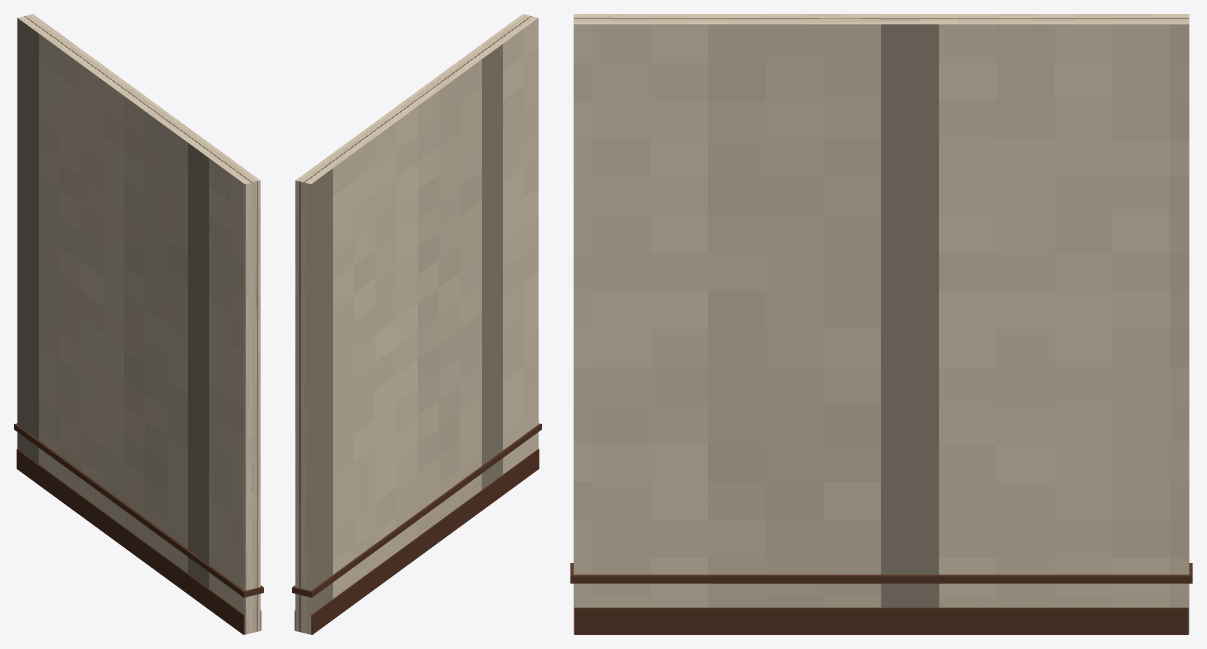
File: stair_side.glb
3 views of the same model, side by side, from view 1: azimuth 30°, elevation 25°; view 2: azimuth 150°, elevation 25°; view 3: azimuth 270°, elevation 25° (orthographic). The views are drawn at different scales.
Visible parts, largest first — view 1: Box1, Box2, Box4, Box3; view 2: Box1, Box2, Box3, Box4; view 3: Box1, Box2, Box4, Box3.
Part boxes in pixels (<box>): Box1: <box>17,14,260,634</box>; Box2: <box>16,449,261,634</box>; Box4: <box>14,423,263,597</box>; Box3: <box>17,432,260,633</box>; Box1: <box>295,14,538,634</box>; Box2: <box>294,449,539,634</box>; Box3: <box>295,432,538,633</box>; Box4: <box>292,423,541,597</box>; Box1: <box>573,14,1189,633</box>; Box2: <box>574,607,1188,634</box>; Box4: <box>570,563,1192,583</box>; Box3: <box>573,583,1188,619</box>.
Size of the model in its own units: 0.19 by 4.1 by 3.79.
2 materials, 1 textured.
